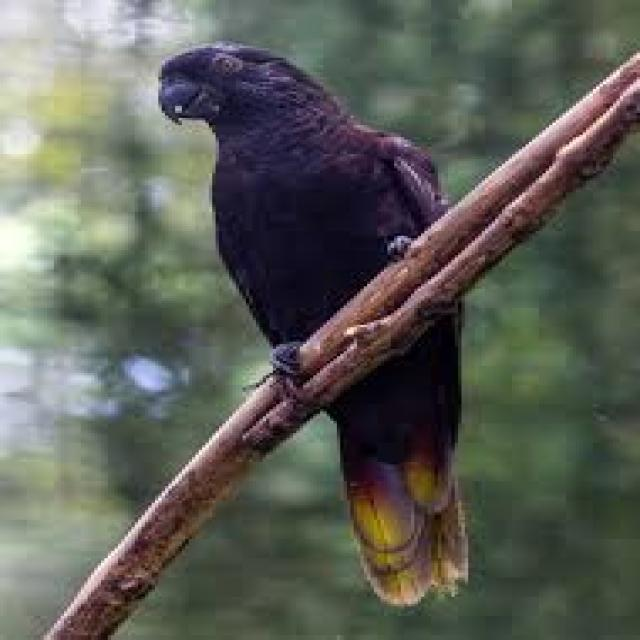Nuri Hitam: (145, 32, 520, 625)
